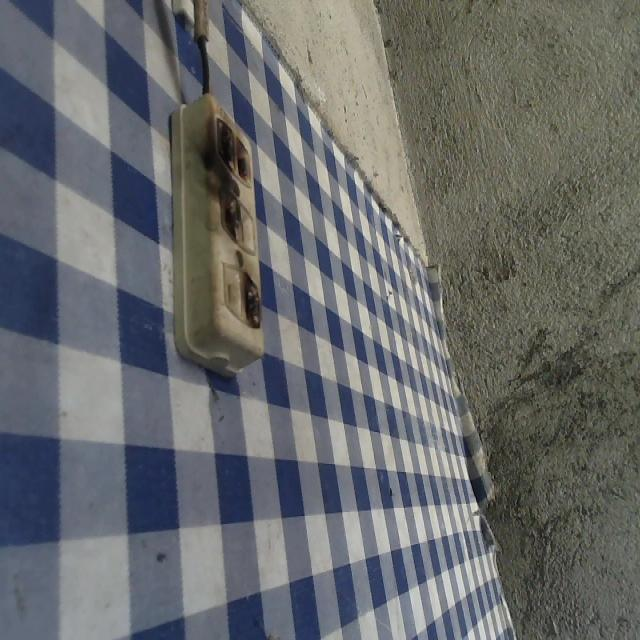-: (212, 113, 253, 187), (215, 189, 241, 243), (241, 272, 262, 324)
